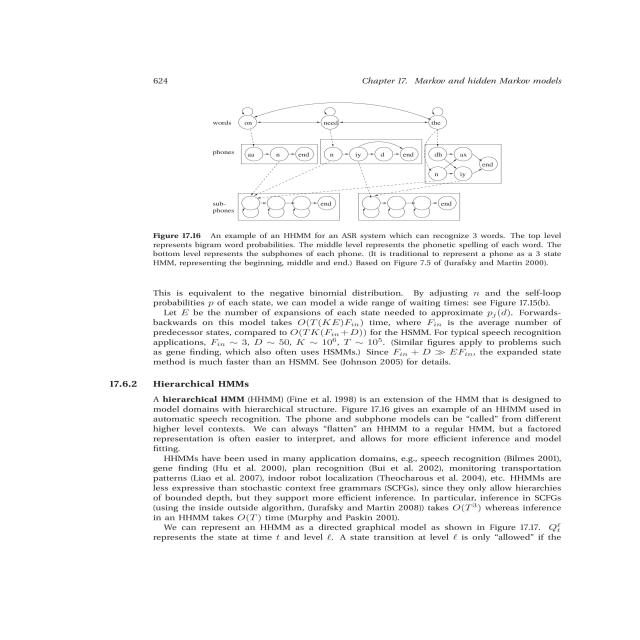diagram: (106, 93, 640, 288)
